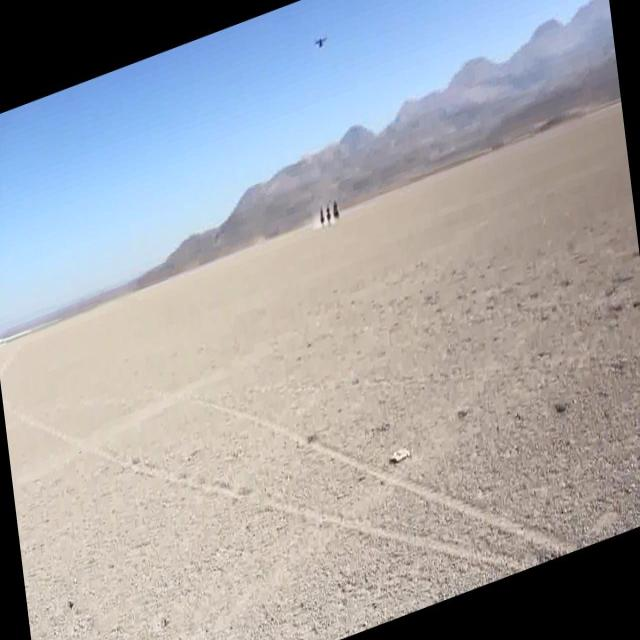drone: (312, 25, 331, 54)
